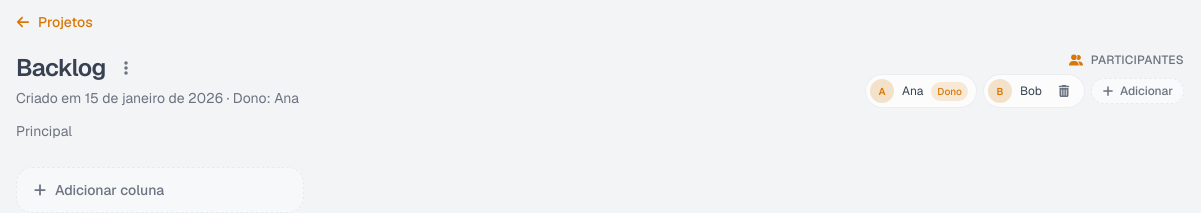
Test: ProjectDetail › mostra menu de ações para o dono
The image size is (1201, 213).
Expected: the heading "Backlog" is shown, [16,52,106,84]
Click the button named "Mais ações do projeto". click: (126, 68)
box: [110,52,142,84]
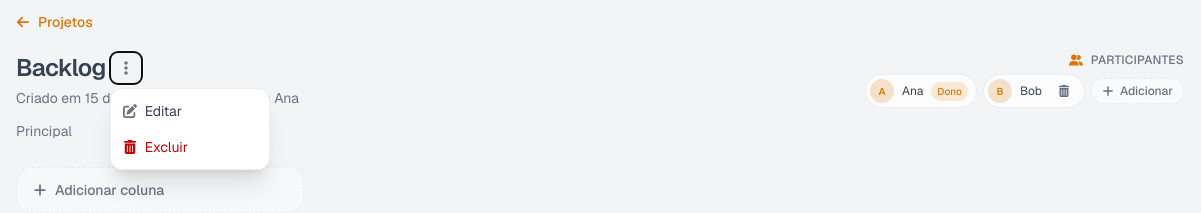
Expected: the text "Bob" is shown, [1020,83,1042,99]
Result: the menu item "Editar" is shown at [111,93,269,129]
Result: the menu item "Excluir" is shown at [111,129,269,165]
